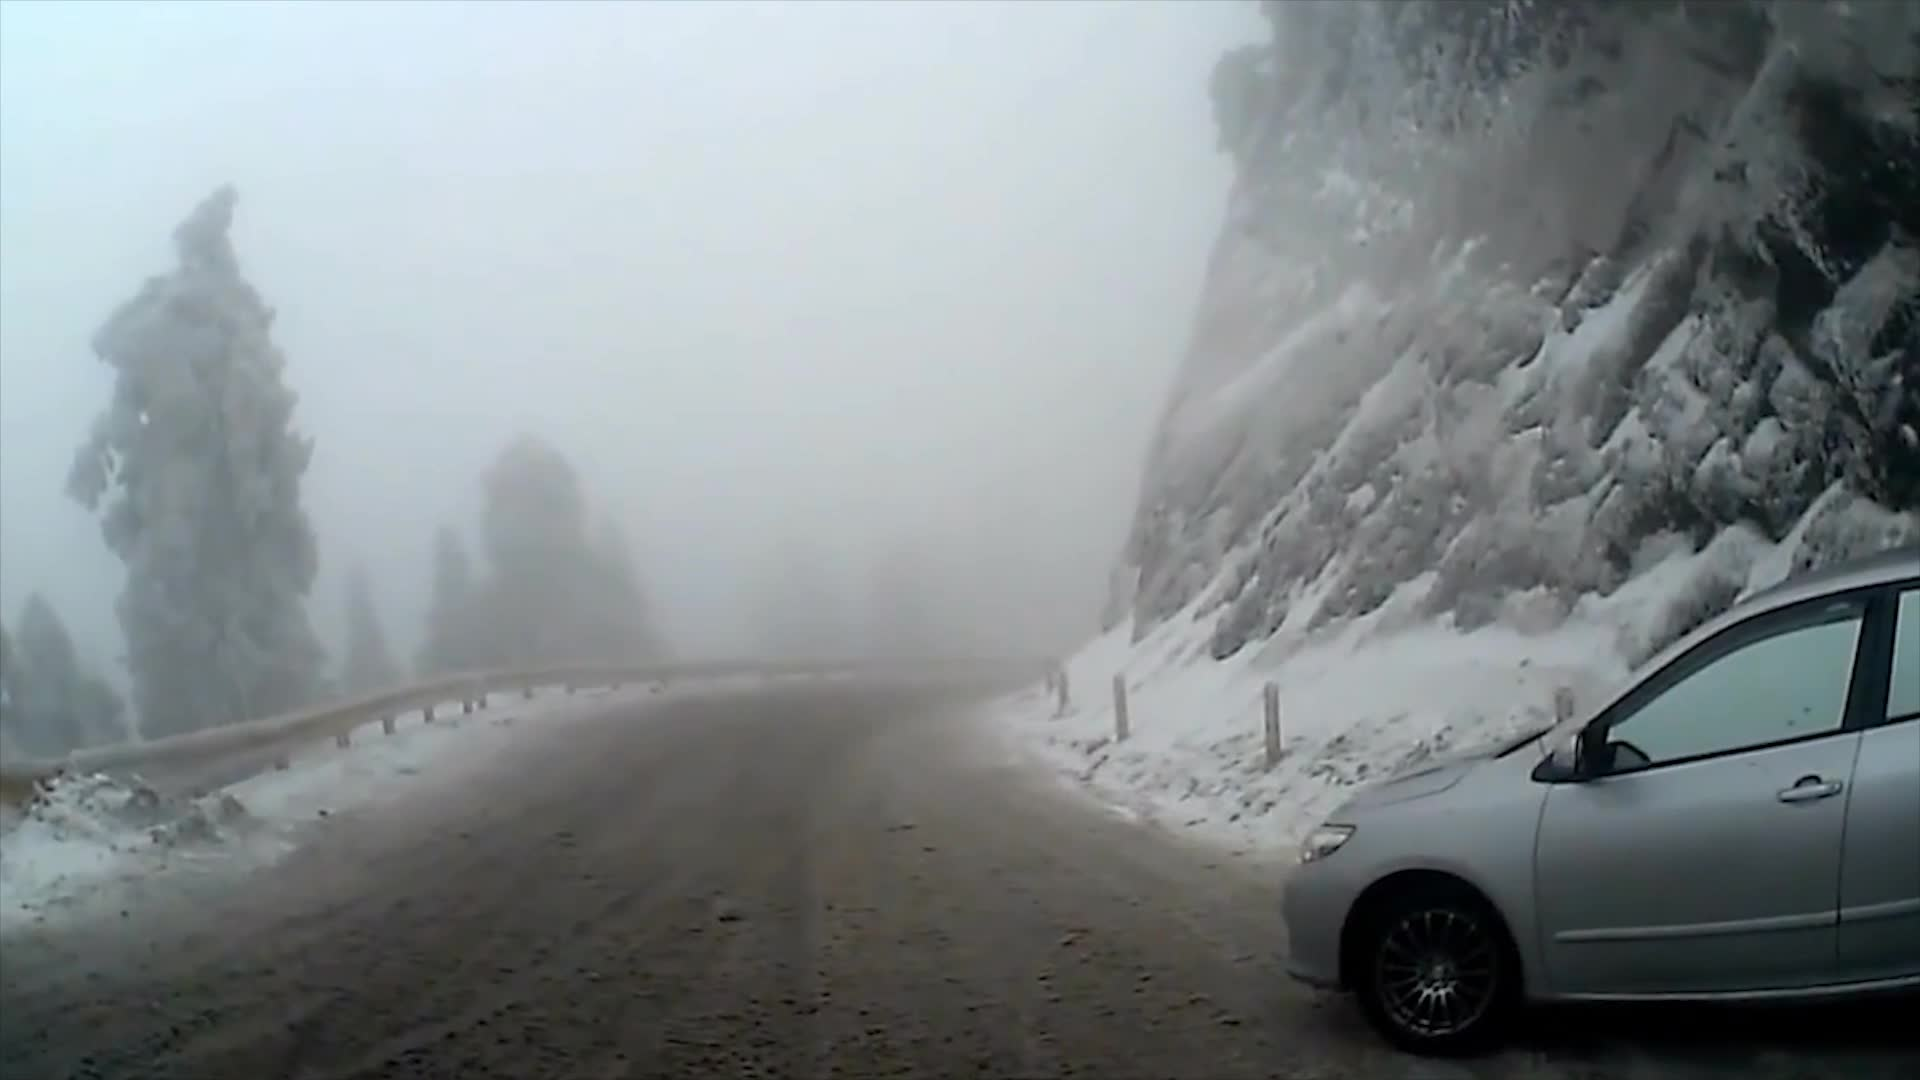vehicle: (1276, 546, 1920, 1064)
